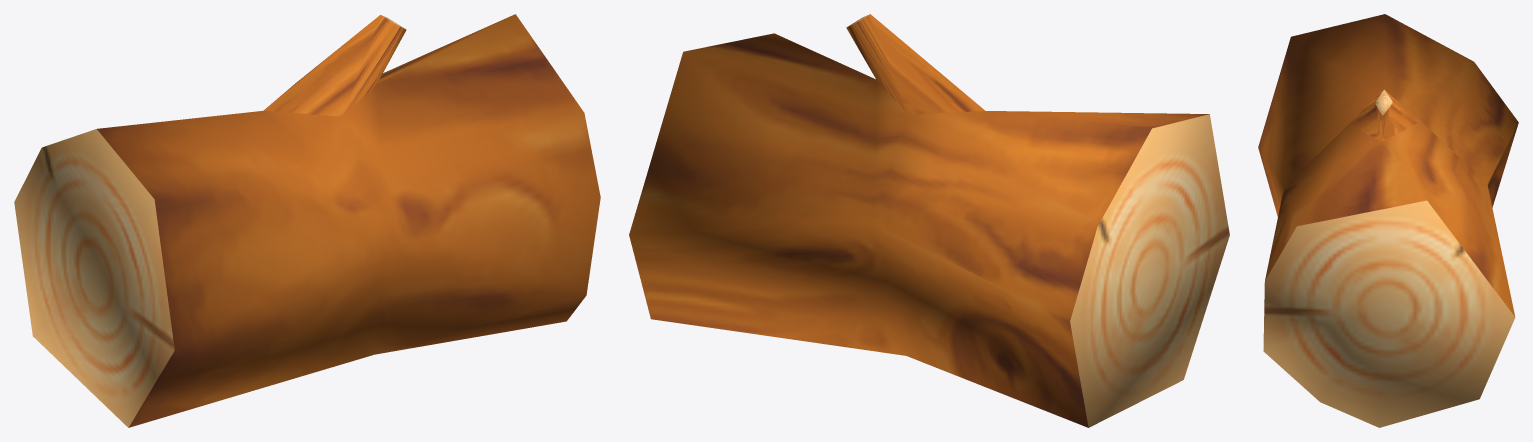
The model's file is Tree_03.FBX.
3 renders of one model, left to right at view 1: azimuth 30°, elevation 25°; view 2: azimuth 150°, elevation 25°; view 3: azimuth 270°, elevation 25°, orthographic. The views are drawn at different scales.
Visible parts, largest first — view 1: tree_03; view 2: tree_03; view 3: tree_03.
Boxes of the visible parts, x1,y1,x2,y2 form: tree_03: (14,14,600,427); tree_03: (629,14,1229,427); tree_03: (1258,14,1518,427).
Bounding box in the file's own units: 71.75 × 52.97 × 44.85.
